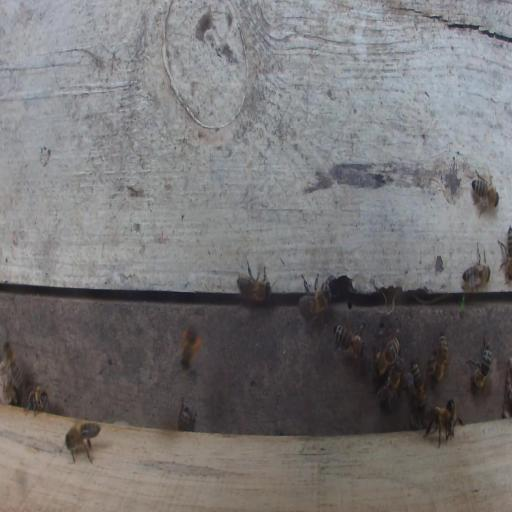nonpollenbee: (299, 270, 333, 323), (373, 358, 404, 416), (64, 420, 102, 465), (333, 313, 366, 363), (462, 239, 492, 294), (471, 162, 500, 218), (236, 259, 273, 302), (466, 332, 493, 389), (423, 399, 453, 450), (425, 331, 453, 385), (371, 325, 399, 378), (406, 355, 427, 413), (1, 340, 22, 393), (496, 225, 512, 283), (24, 383, 49, 419), (177, 395, 199, 431), (446, 398, 464, 427)
pollenbee: (179, 322, 201, 370)
